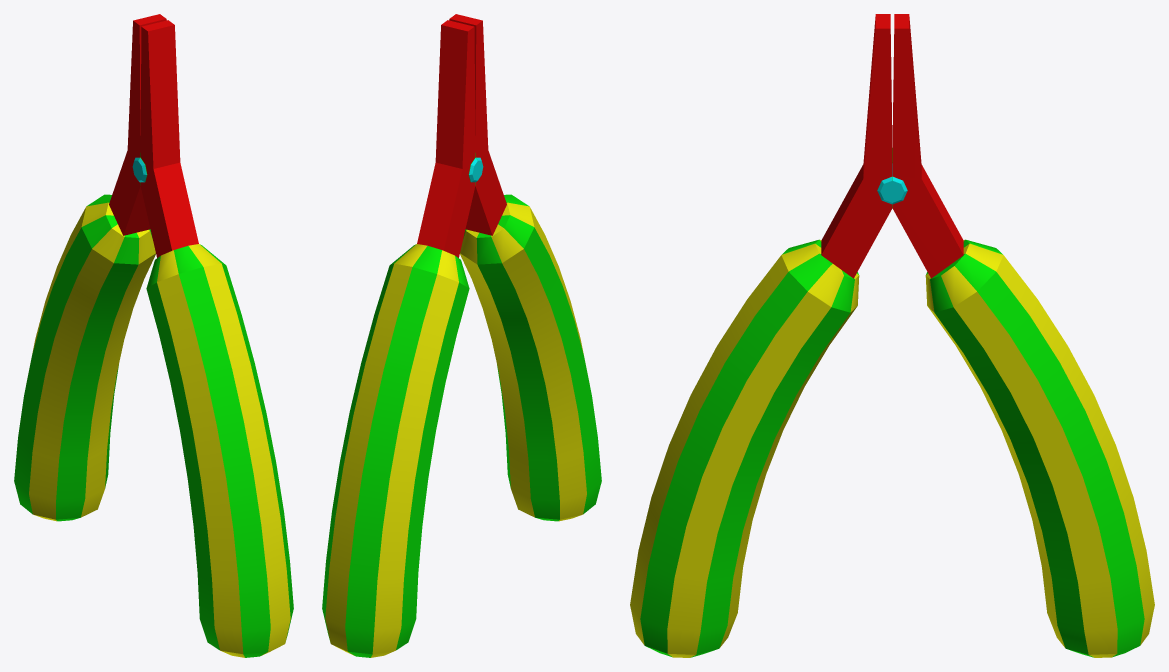
File: Pliers_SM.fbx
3 views of the same model, side by side, from view 1: azimuth 30°, elevation 25°; view 2: azimuth 150°, elevation 25°; view 3: azimuth 270°, elevation 25° (orthographic). The views are drawn at different scales.
Parts seen in each view (by area): view 1: pCylinder15; view 2: pCylinder15; view 3: pCylinder15.
Boxes of the visible parts, x1,y1,x2,y2 form: pCylinder15: (14, 14, 293, 657); pCylinder15: (322, 14, 601, 657); pCylinder15: (630, 14, 1154, 657).
Bounding box in the file's own units: 2.22 × 14.92 × 11.34.
